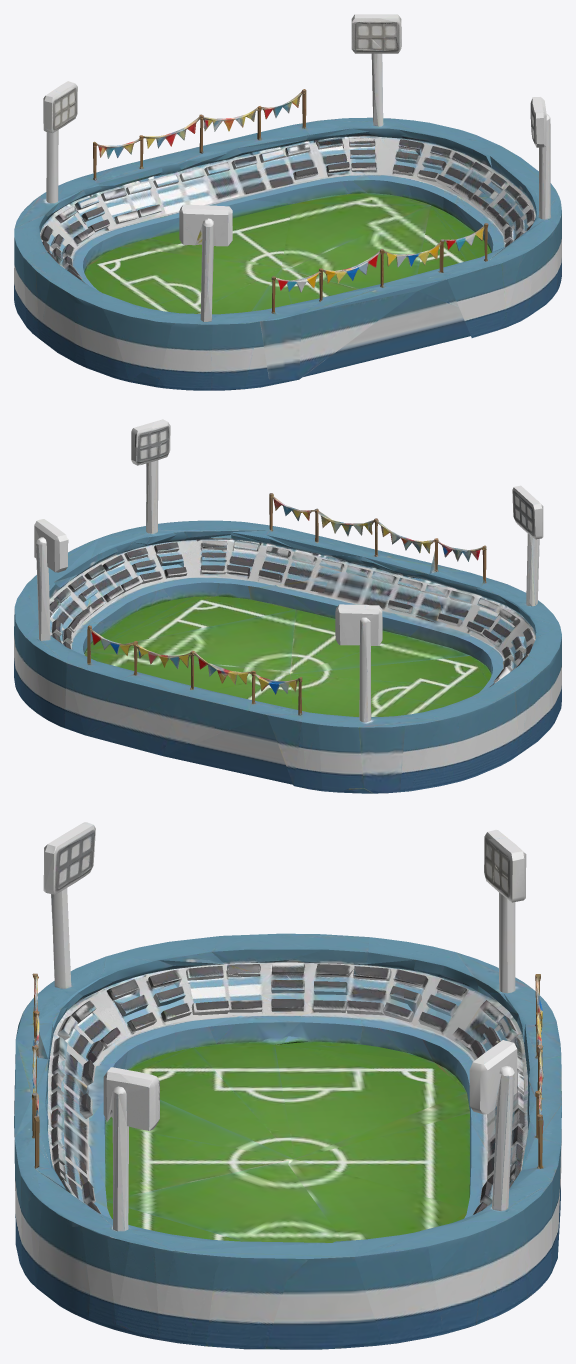
File: stadium.glb
3 renders of one model, top to bottom at view 1: azimuth 30°, elevation 25°; view 2: azimuth 150°, elevation 25°; view 3: azimuth 270°, elevation 25°, orthographic. The views are drawn at different scales.
Size of the model in its own units: 1.9 by 0.6716 by 1.35.
Materials: 1 (1 with a texture image).
